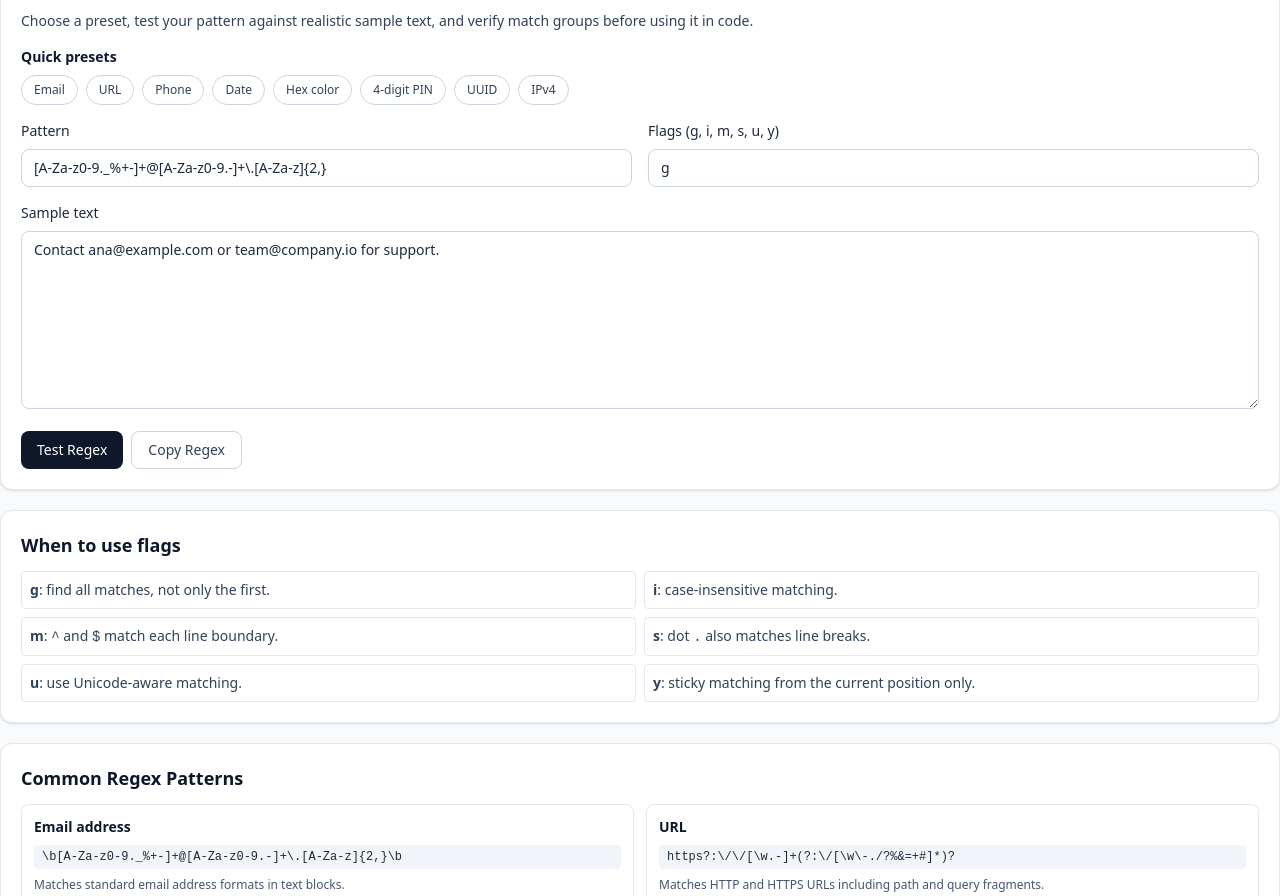
Test: RegexTesterTool › runs regex tests and reports match count
(page scrolled)
Click the button "Test Regex" at (72, 450), box x1=21 y1=431 x2=123 y2=469
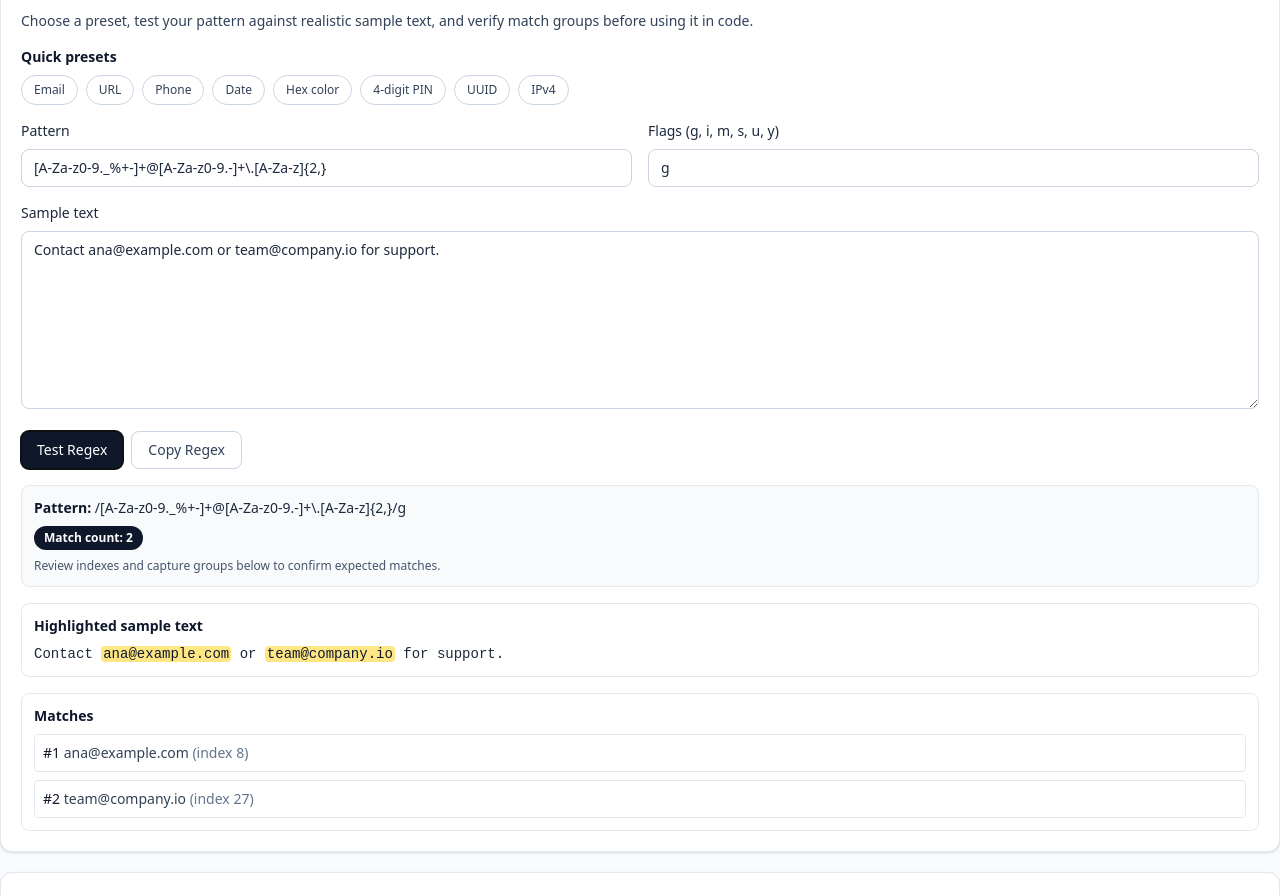
Replace the text in the field labelled "Pattern" with "(" at (326, 168), box x1=21 y1=149 x2=632 y2=187
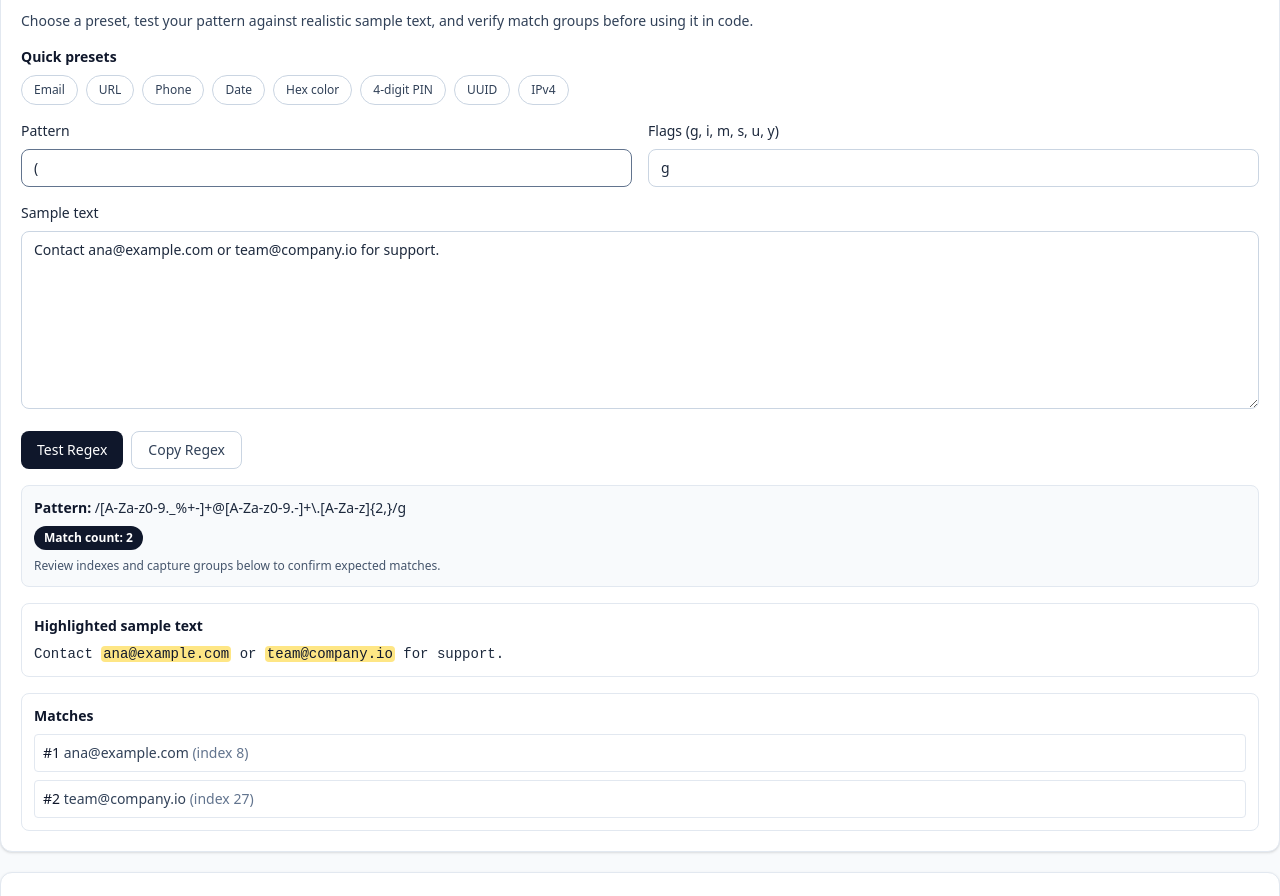
Click the button "Test Regex" at (72, 450), box x1=21 y1=431 x2=123 y2=469
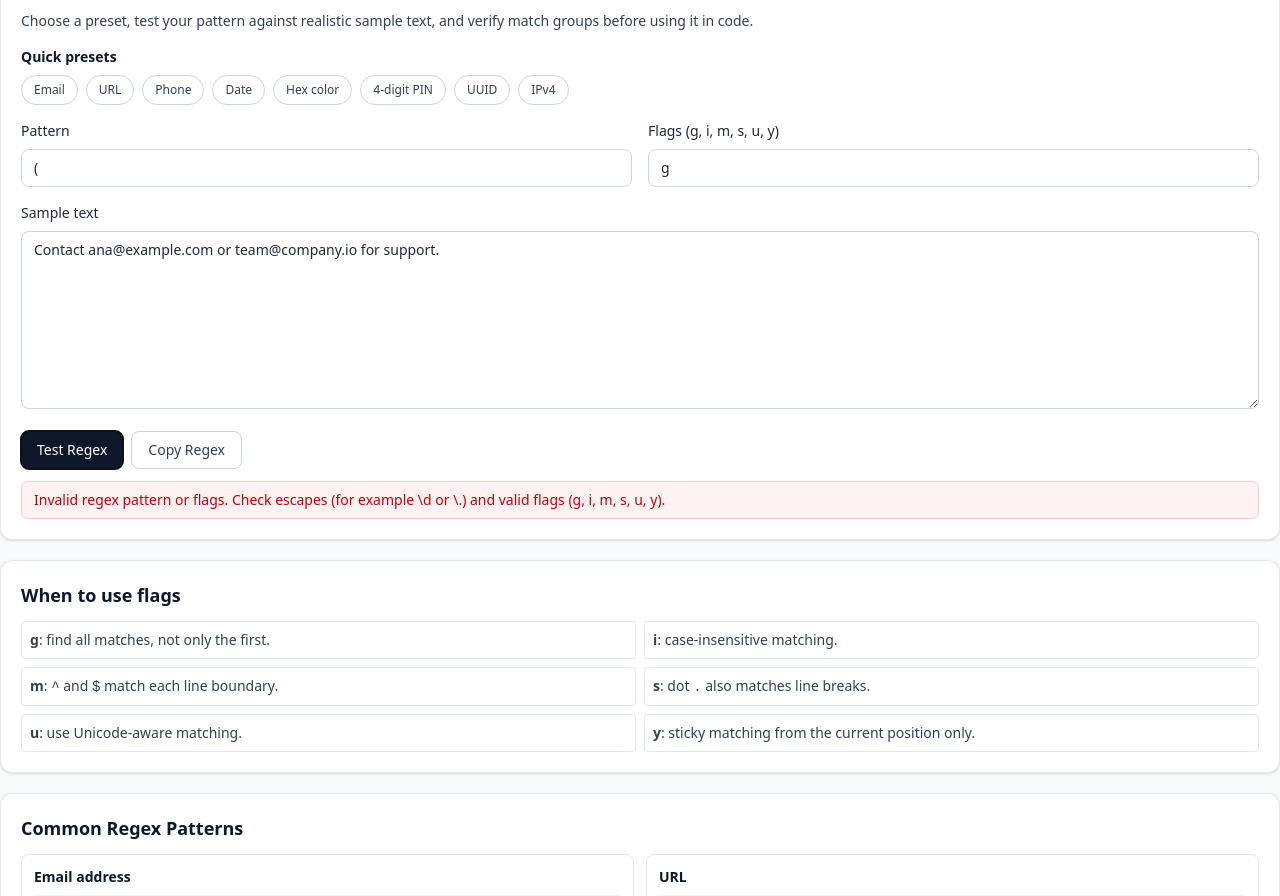
Check: the text "Invalid regex pattern or flags. Check escapes (for example \\d or \\.) and valid flags (g, i, m, s, u, y)." is shown, box x1=34 y1=490 x2=665 y2=509
